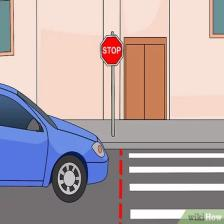Stop-sign: (98, 30, 127, 68)
